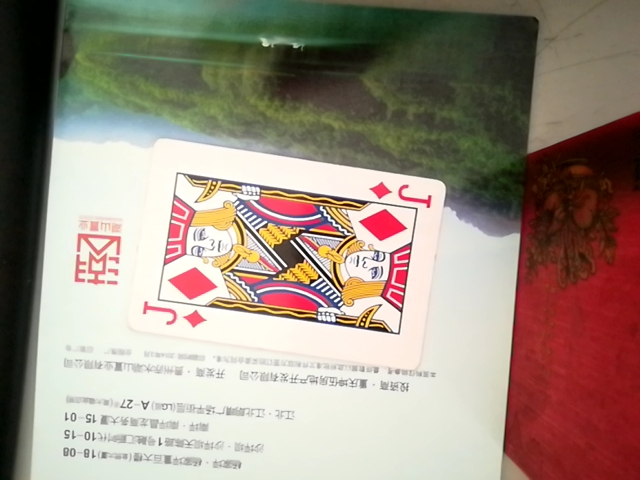fk j: (122, 143, 453, 370)
